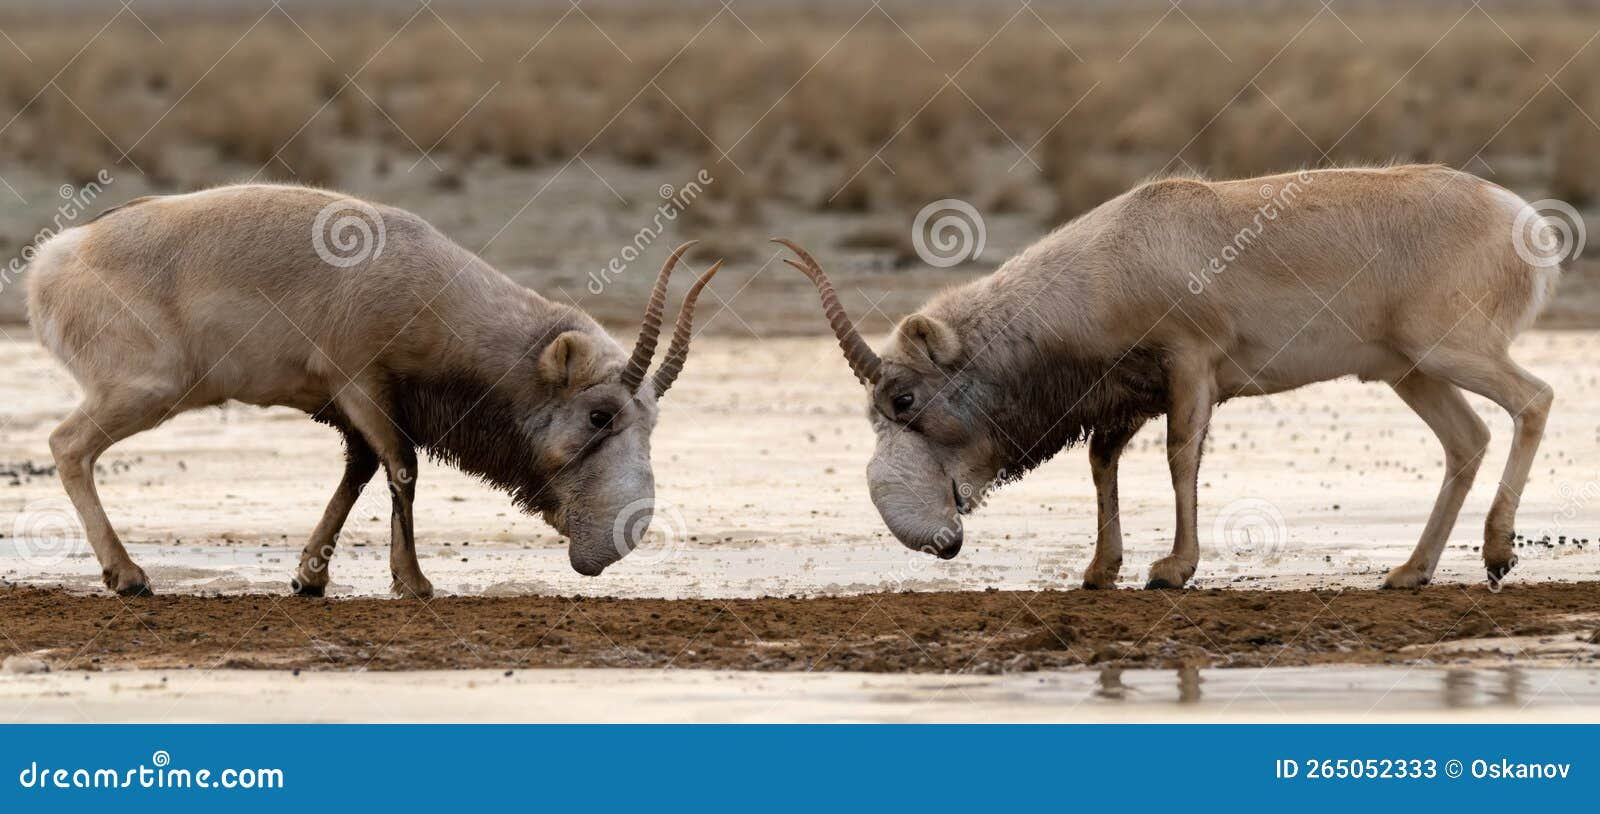saiga: (777, 148, 1557, 630), (15, 175, 714, 697)
